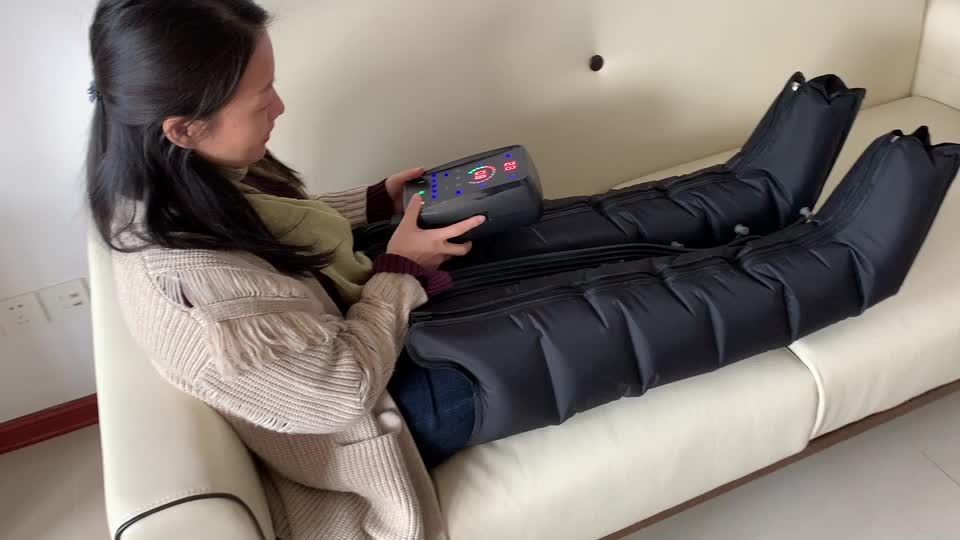patient: (71, 5, 930, 437)
sequential_compression: (399, 69, 955, 445)
sofa: (37, 1, 960, 540)
